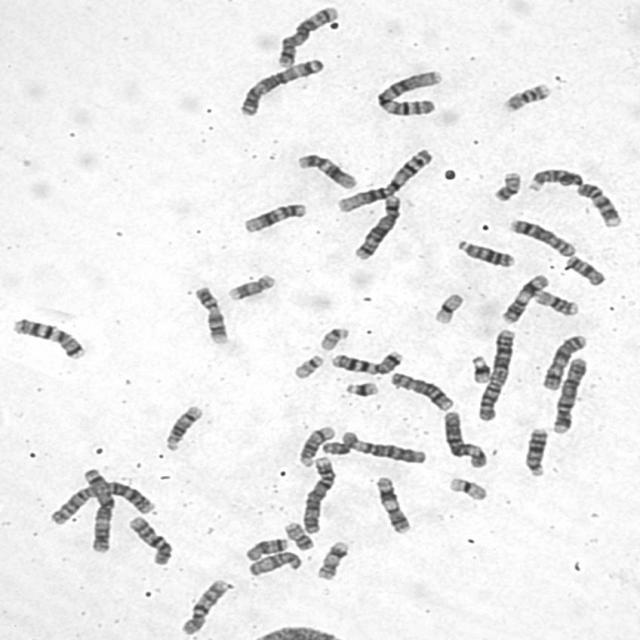A1: (333, 146, 435, 213), (372, 66, 444, 117)
A2: (44, 477, 156, 526), (473, 326, 517, 422)
A3: (234, 55, 326, 117), (79, 464, 115, 554)
B4: (548, 354, 589, 436), (298, 455, 336, 535)
B5: (274, 2, 340, 69), (350, 192, 403, 261)
C10: (177, 575, 231, 637), (124, 513, 174, 566)
C11: (498, 271, 551, 325), (371, 473, 413, 535)
C12: (293, 150, 358, 190), (238, 198, 308, 234)
C6: (336, 428, 428, 466), (439, 407, 489, 470)
C7: (8, 313, 87, 361), (327, 347, 404, 376)
C8: (505, 215, 577, 258), (386, 368, 455, 412)
C9: (190, 283, 230, 346), (573, 180, 623, 229)
D13: (453, 236, 516, 268), (521, 424, 549, 478)
D14: (160, 401, 204, 452), (295, 422, 337, 468)
D15: (244, 547, 303, 578), (527, 168, 586, 194)
E16: (499, 79, 552, 113), (530, 287, 580, 318)
E17: (223, 270, 277, 302), (313, 538, 350, 582)
E18: (561, 253, 607, 287), (240, 534, 290, 563)
F19: (445, 473, 489, 502), (430, 290, 466, 325)
F20: (280, 519, 315, 552), (490, 168, 523, 203)
G21: (467, 352, 494, 384), (340, 378, 380, 398)
G22: (316, 323, 352, 352), (289, 351, 325, 380)
X: (538, 330, 590, 392)
Y: (318, 440, 354, 457)
